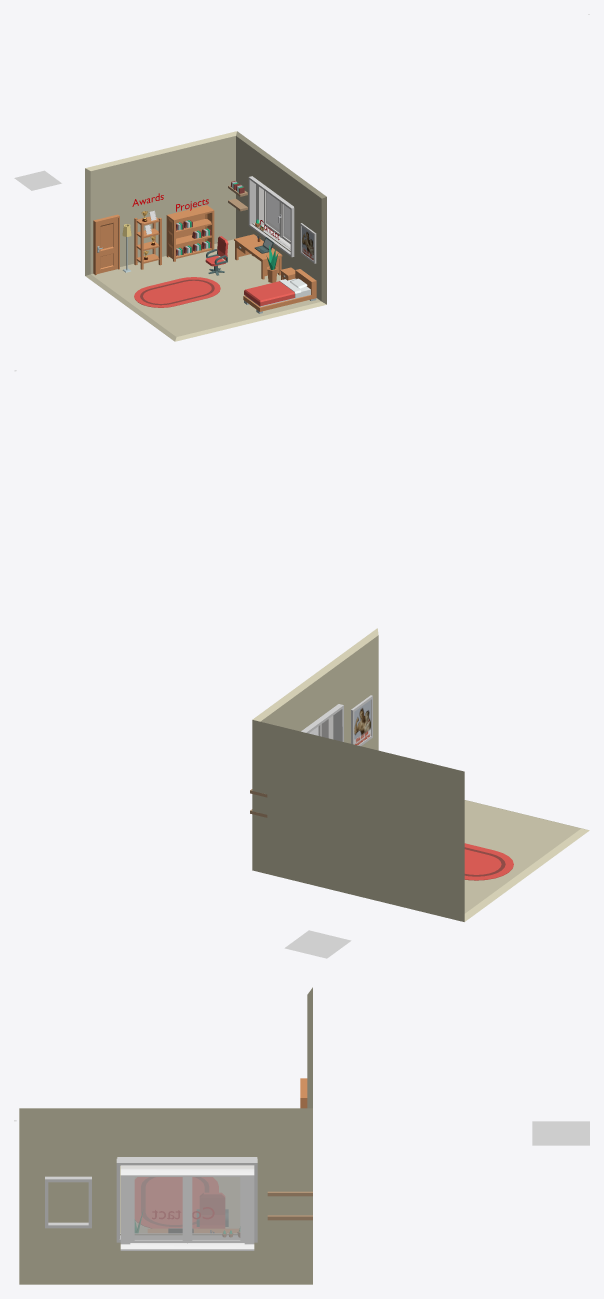
The model's file is room.gltf.
The picture shows the model from 3 angles, top to bottom: view 1: azimuth 30°, elevation 25°; view 2: azimuth 150°, elevation 25°; view 3: azimuth 270°, elevation 25°; orthographic projection. The views are drawn at different scales.
Parts seen in each view (by area): view 1: Cube, rugRounded, bedSingle, bookcaseClosedWide, doorway, bookcaseOpen, desk, Object_7, Plane.001, chairDesk; view 2: Cube, rugRounded, Plane.001; view 3: Cube, Object_7, Object_3, rugRounded, Object_5, Plane.001, Plane.004, chairDesk, Plane, Object_2.
Boxes of the visible parts, x1,y1,x2,y2 form: Cube: (85, 131, 326, 341); rugRounded: (134, 277, 220, 307); bedSingle: (243, 269, 316, 313); bookcaseClosedWide: (166, 205, 214, 261); doorway: (93, 214, 119, 275); bookcaseOpen: (134, 216, 161, 269); desk: (234, 234, 282, 279); Object_7: (266, 192, 290, 240); Plane.001: (14, 170, 61, 190); chairDesk: (205, 236, 228, 275); Cube: (252, 628, 589, 921); rugRounded: (464, 843, 513, 880); Plane.001: (284, 930, 351, 958); Cube: (19, 987, 312, 1284); Object_7: (134, 1177, 240, 1240); Object_3: (120, 1168, 254, 1250); rugRounded: (135, 1177, 218, 1228); Object_5: (130, 1177, 244, 1243); Plane.001: (532, 1121, 589, 1145); Plane.004: (116, 1157, 256, 1165); chairDesk: (197, 1193, 228, 1228); Plane: (116, 1233, 256, 1242); Object_2: (120, 1165, 254, 1168).
Bounding box in the file's own units: 8.17 × 4.3 × 6.04.
Materials: 101 (2 with a texture image).
